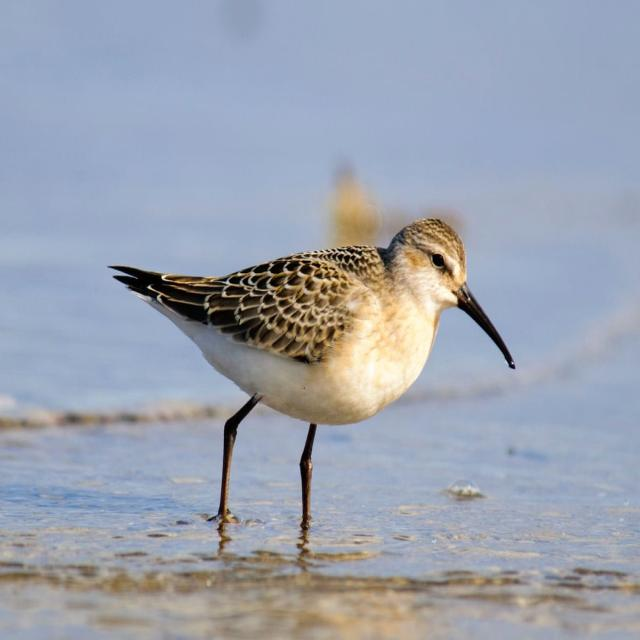sandpiper: (111, 218, 514, 529)
